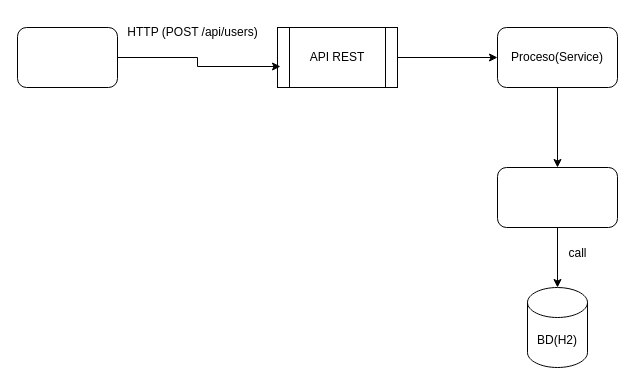
Some shapes in this 635 by 385 pixel diagram are drawn without their labels. The centre of each missing label's shape, as x and y in pixels:
"CLIENT" belongs at point (67, 57).
"Repositorio" belongs at point (557, 197).
